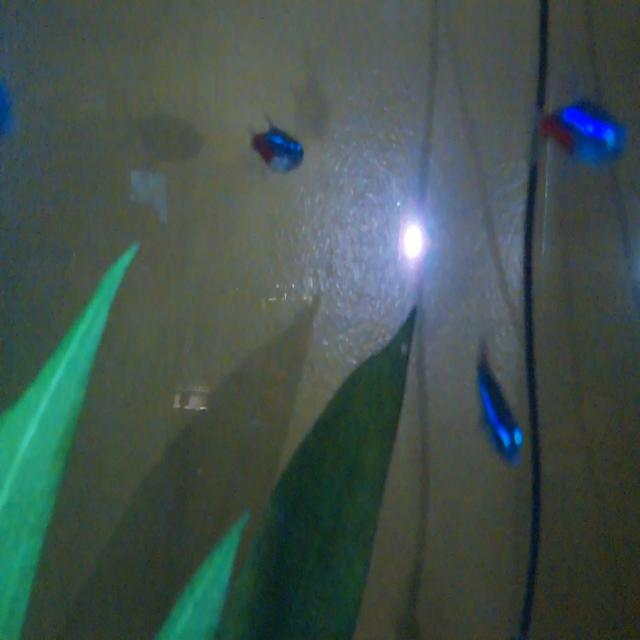fish: (465, 334, 528, 470), (529, 88, 632, 171), (240, 111, 311, 181)
